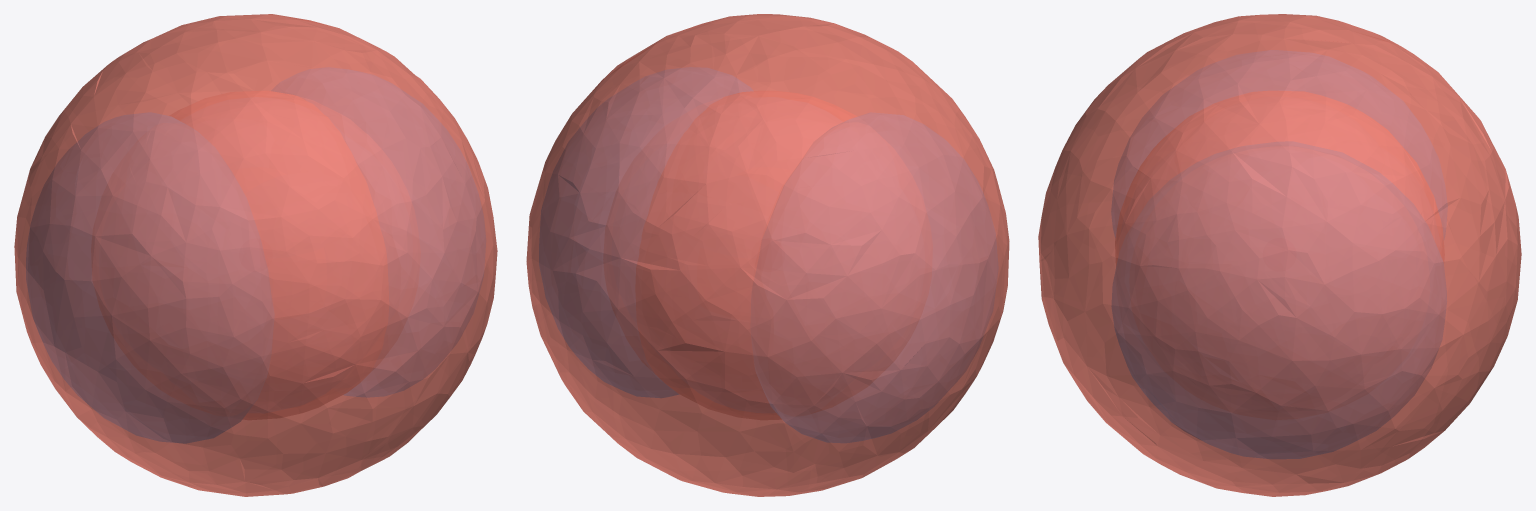
The model's file is orbital.glb.
3 views of the same model, side by side, from view 1: azimuth 30°, elevation 25°; view 2: azimuth 150°, elevation 25°; view 3: azimuth 270°, elevation 25° (orthographic).
Visible parts, largest first — view 1: Al_n3_s_ml0_node, Al_n3_p_ml1_node, Al_n2_s_ml0_node; view 2: Al_n3_s_ml0_node, Al_n3_p_ml1_node, Al_n2_s_ml0_node; view 3: Al_n3_s_ml0_node, Al_n3_p_ml1_node, Al_n2_s_ml0_node.
Part boxes in pixels (x1,y1,x2,y2): Al_n3_s_ml0_node: [14, 14, 497, 496]; Al_n3_p_ml1_node: [26, 67, 485, 442]; Al_n2_s_ml0_node: [170, 91, 388, 419]; Al_n3_s_ml0_node: [526, 14, 1009, 496]; Al_n3_p_ml1_node: [539, 67, 997, 442]; Al_n2_s_ml0_node: [635, 91, 856, 419]; Al_n3_s_ml0_node: [1038, 14, 1521, 496]; Al_n3_p_ml1_node: [1111, 50, 1447, 458]; Al_n2_s_ml0_node: [1115, 91, 1444, 265].
Bounding box in the file's own units: 1.57 × 1.57 × 1.57.
